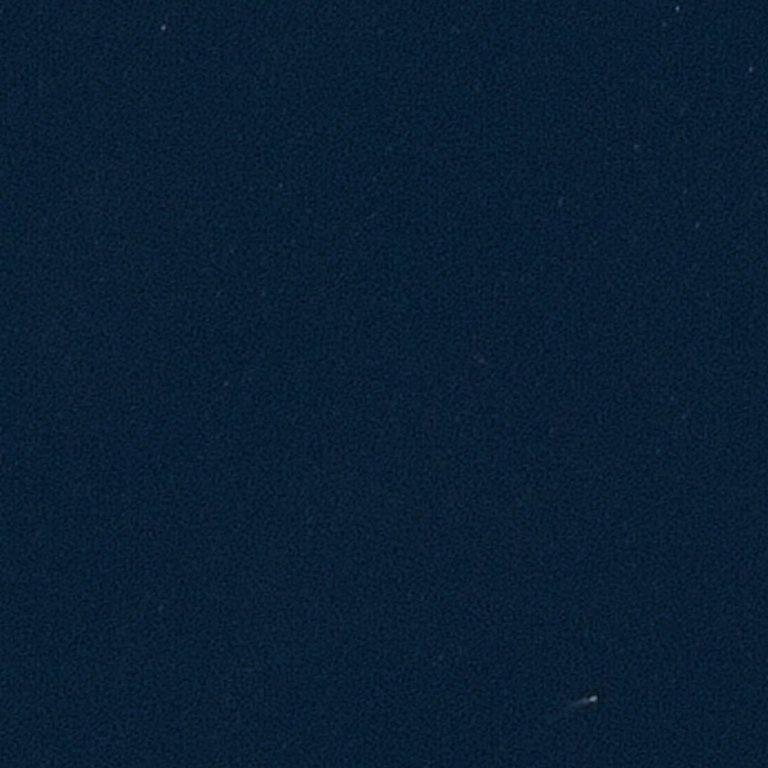ship: (588, 695, 599, 703)
